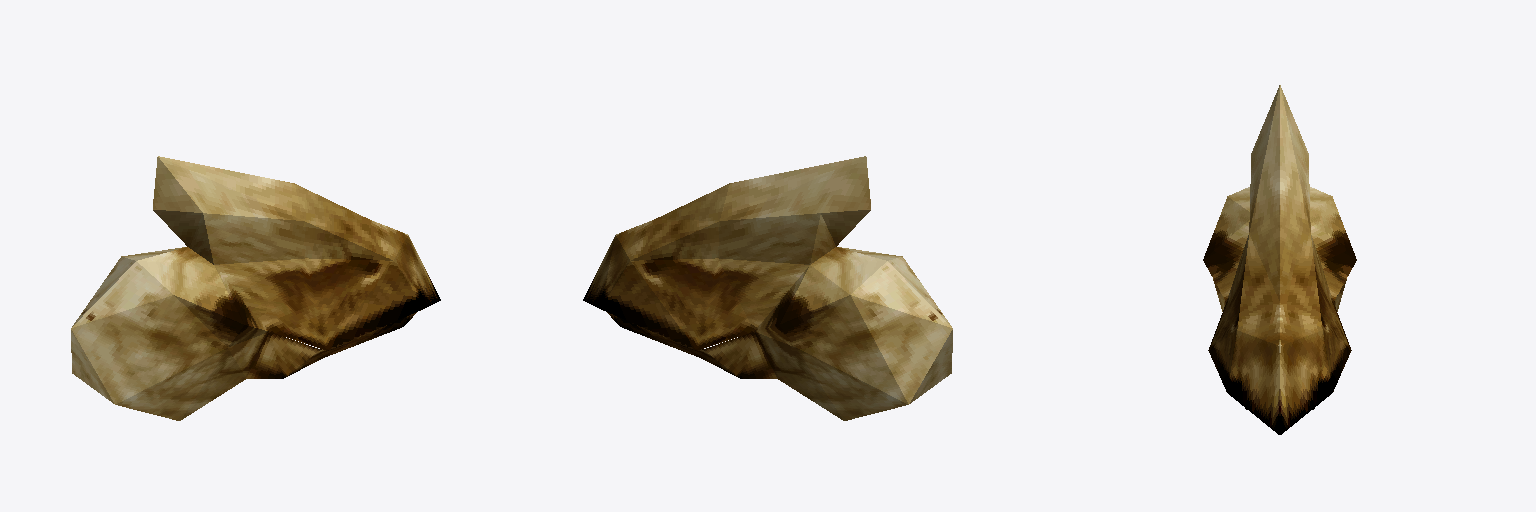
The picture shows the model from 3 angles: view 1: azimuth 30°, elevation 25°; view 2: azimuth 150°, elevation 25°; view 3: azimuth 270°, elevation 25°; orthographic projection.
Visible parts, largest first — view 1: object 1; view 2: object 1; view 3: object 1.
Part boxes in pixels (bbox=[...]): object 1: bbox=[71, 156, 440, 420]; object 1: bbox=[583, 156, 952, 420]; object 1: bbox=[1203, 85, 1356, 434].
Size of the model in its own units: 0.8117 by 0.5189 by 0.2926.
1 materials, 1 textured.